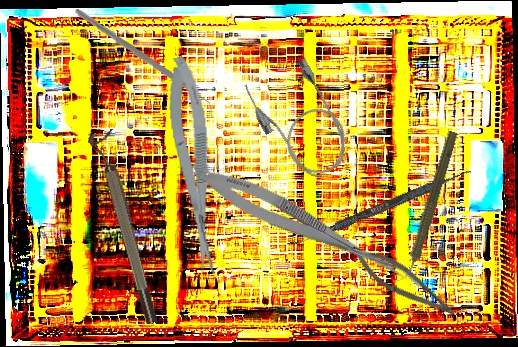Cannula: (239, 52, 360, 190)
Chopper: (69, 9, 219, 118)
Fixation Ring: (86, 128, 162, 328)
Handpiece: (396, 128, 461, 287)
Micro Scissor: (191, 158, 418, 288), (163, 55, 222, 277), (347, 240, 464, 324)
Spatula Surgical: (287, 163, 472, 254)
